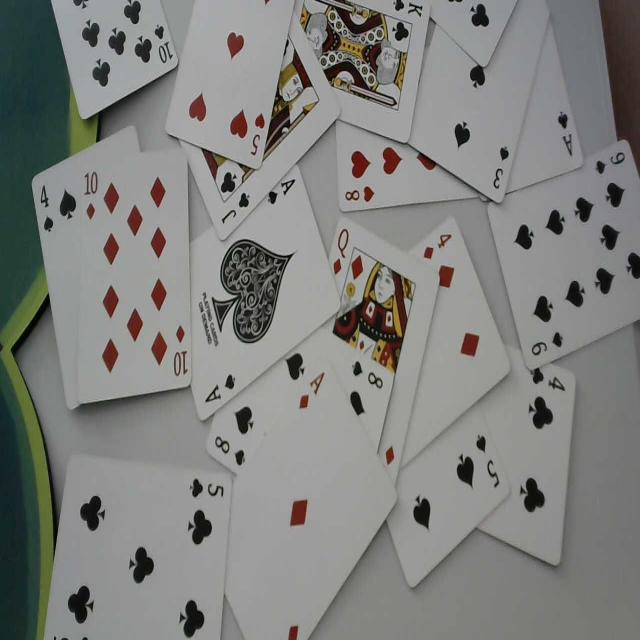10C: (150, 19, 176, 64)
10D: (172, 322, 188, 380), (84, 166, 98, 220)
3S: (492, 140, 508, 194)
4C: (528, 361, 568, 399)
4D: (423, 231, 452, 262)
4S: (37, 182, 55, 238)
5C: (187, 471, 229, 504)
5H: (248, 110, 266, 160)
5S: (473, 429, 501, 491)
8H: (344, 184, 380, 204)
8S: (351, 353, 385, 393), (215, 430, 247, 471)
9S: (594, 146, 628, 178), (531, 328, 567, 357)
AC: (557, 108, 577, 164)
AD: (296, 368, 326, 415)
AS: (201, 372, 237, 411), (266, 176, 298, 208)
JC: (219, 191, 253, 227)
KC: (390, 0, 424, 23)
QD: (332, 222, 350, 283)
